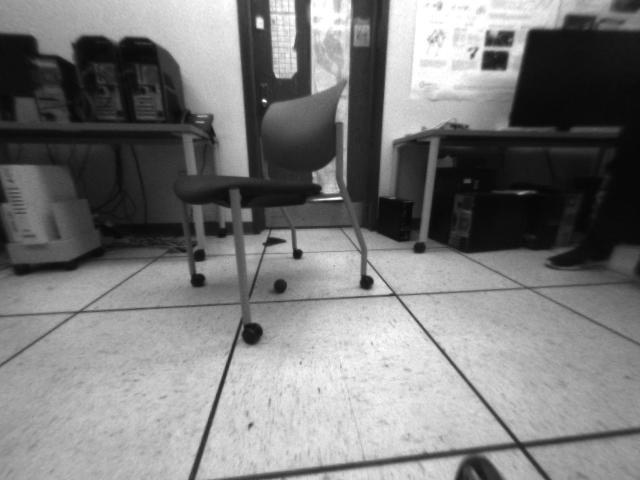dogtoy: (267, 274, 295, 298)
